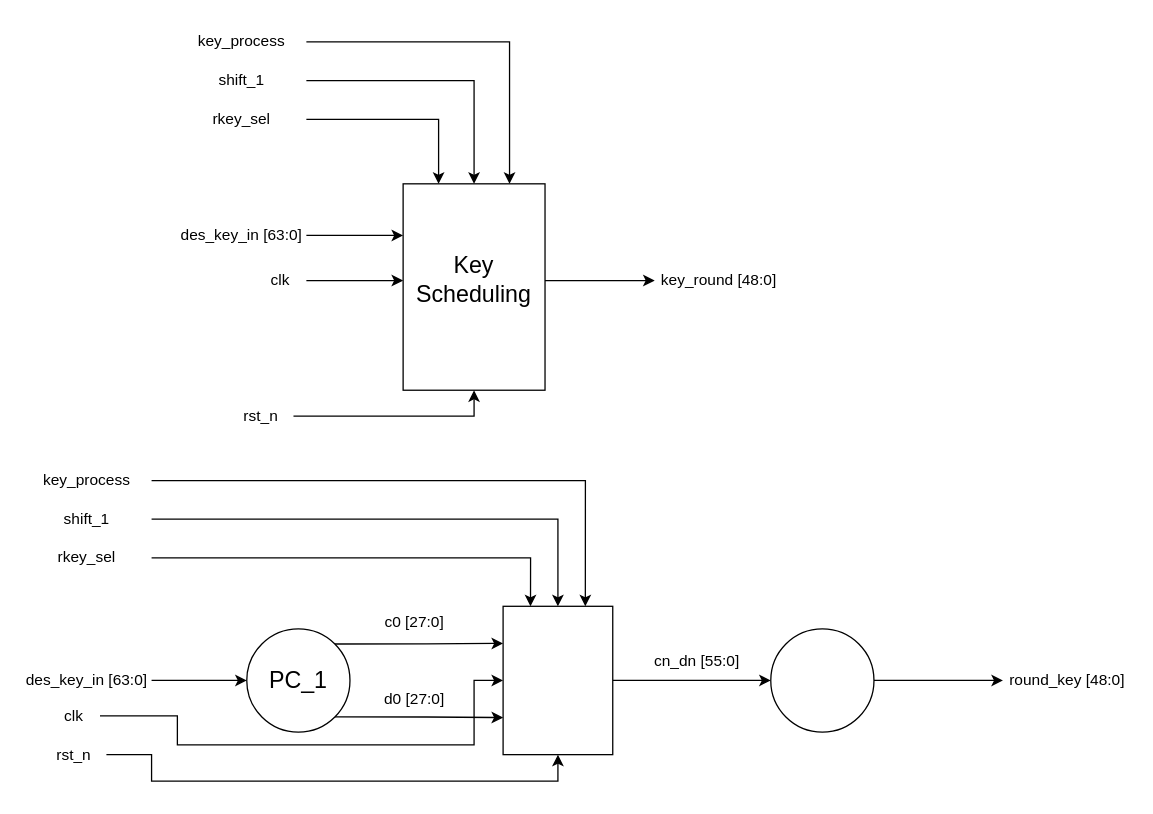
Image size: 1153x814. Some labels were removed from this diagram. Here are the shapes that lost their labels. From the top down, the centre of each, then its label:
(x=557, y=680): Left Shift
(x=821, y=680): PC_2
